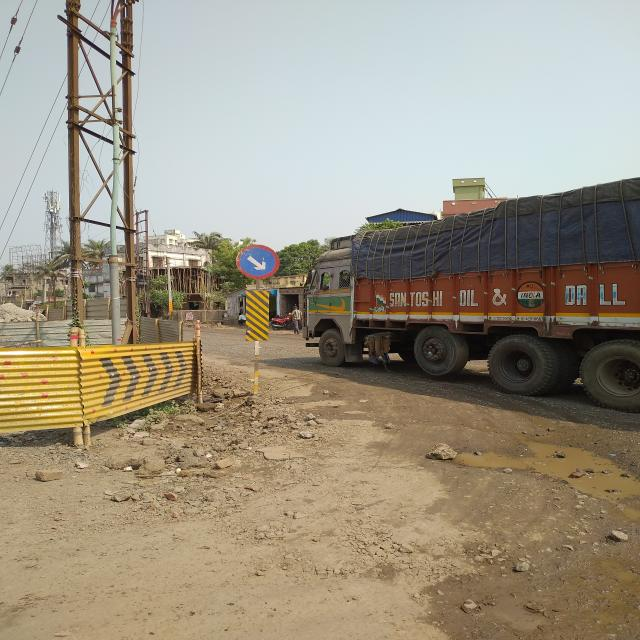Truck: (303, 211, 640, 409)
